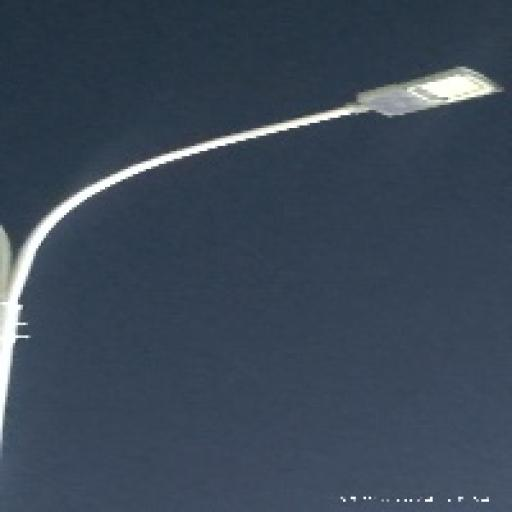Not Working: (325, 46, 512, 156)
